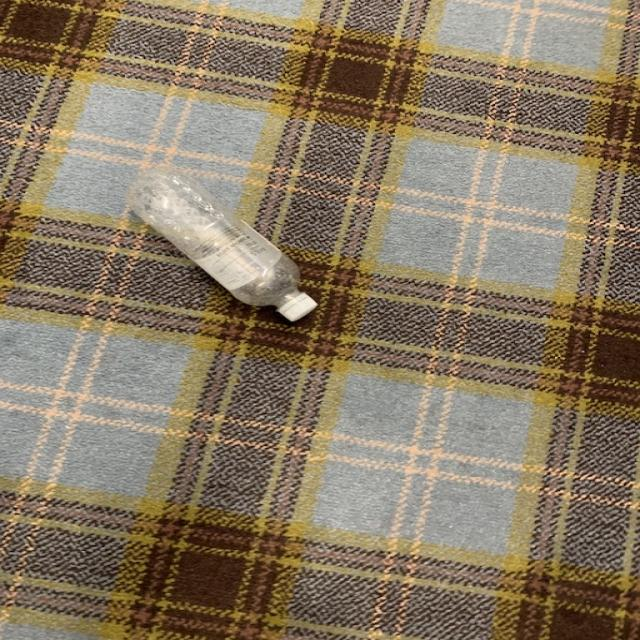Waste: (128, 168, 318, 322)
